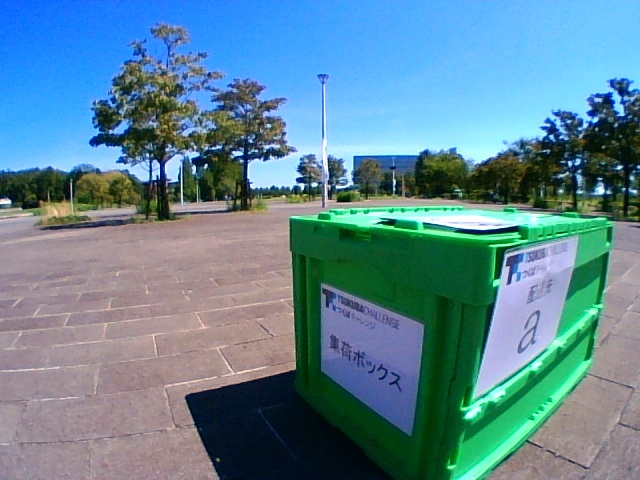green_box: (290, 206, 581, 391)
tag_a: (508, 301, 541, 353)
